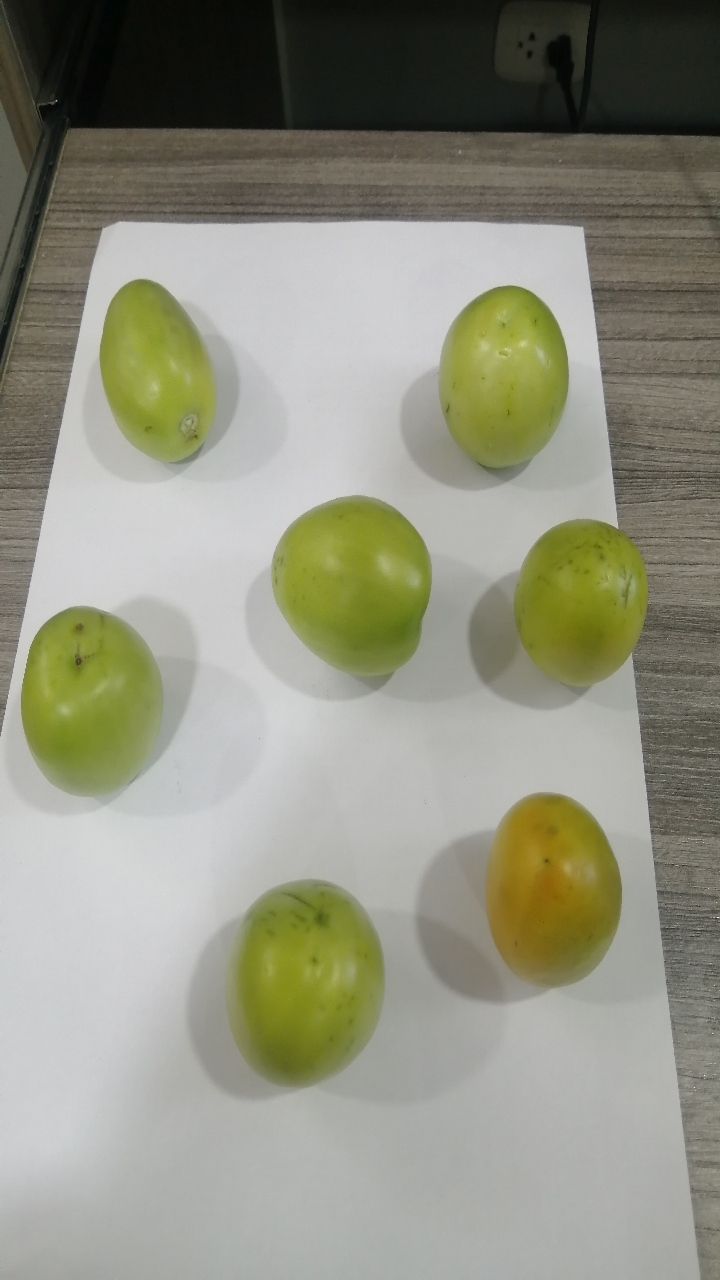tomateVerde: (214, 860, 408, 1097), (255, 485, 460, 708), (471, 775, 641, 1017), (498, 492, 671, 712), (428, 266, 600, 486), (78, 265, 254, 474), (14, 597, 177, 797)
